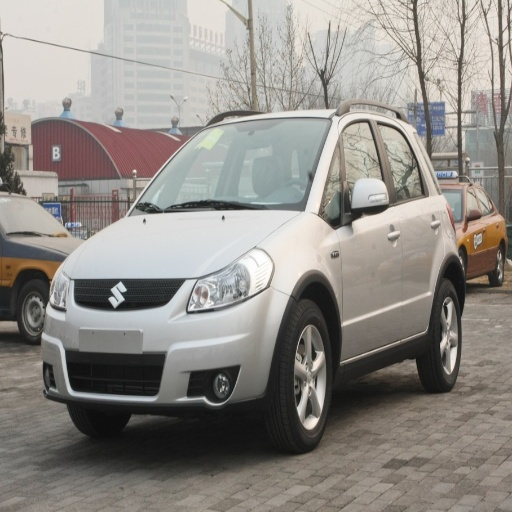front_bumper: (48, 274, 289, 412)
front_glass: (131, 120, 331, 214)
front_left_door: (325, 115, 402, 357)
